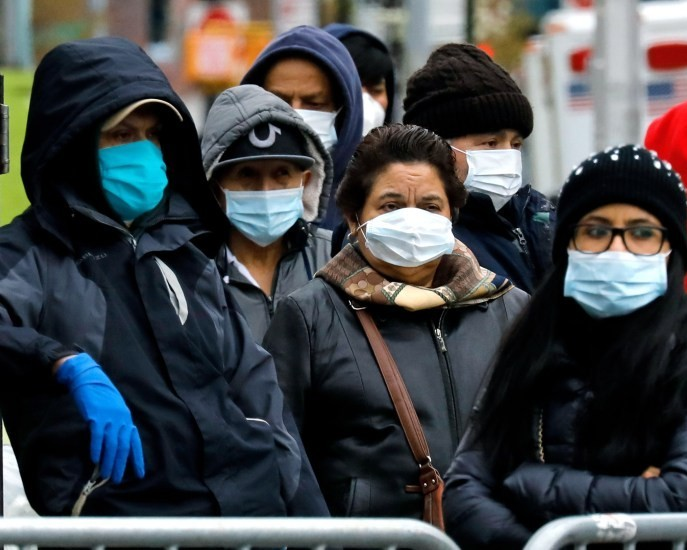with_mask: (350, 150, 467, 276), (557, 192, 675, 307), (248, 36, 347, 160), (435, 101, 535, 208), (87, 101, 176, 220), (214, 144, 315, 245), (333, 24, 400, 133)
